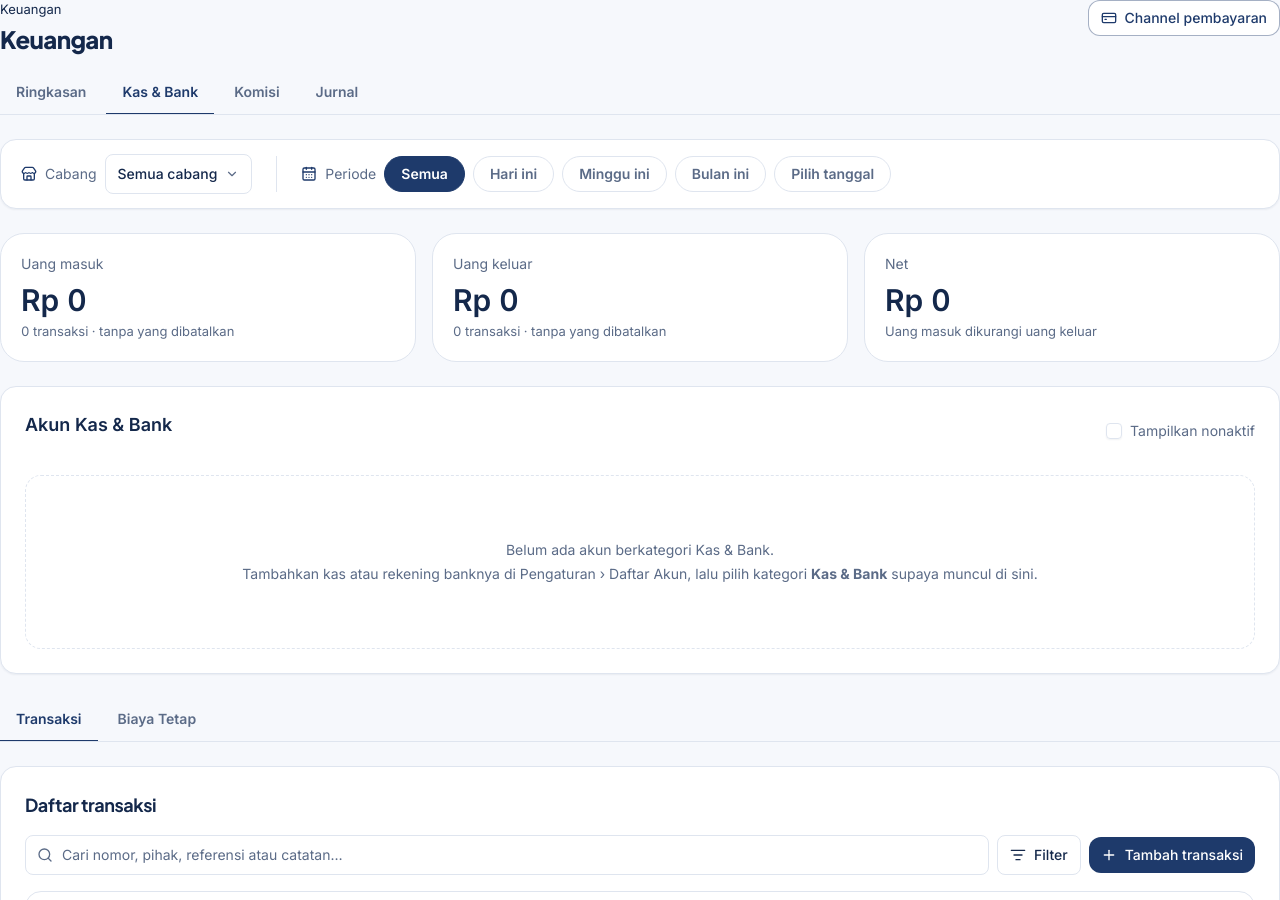
Test: Kas & Bank — transaksi: empty and gated › tells a filtered empty list apart from an empty book
Click the button "Filter" at [1039, 855], box x1=997 y1=835 x2=1081 y2=875
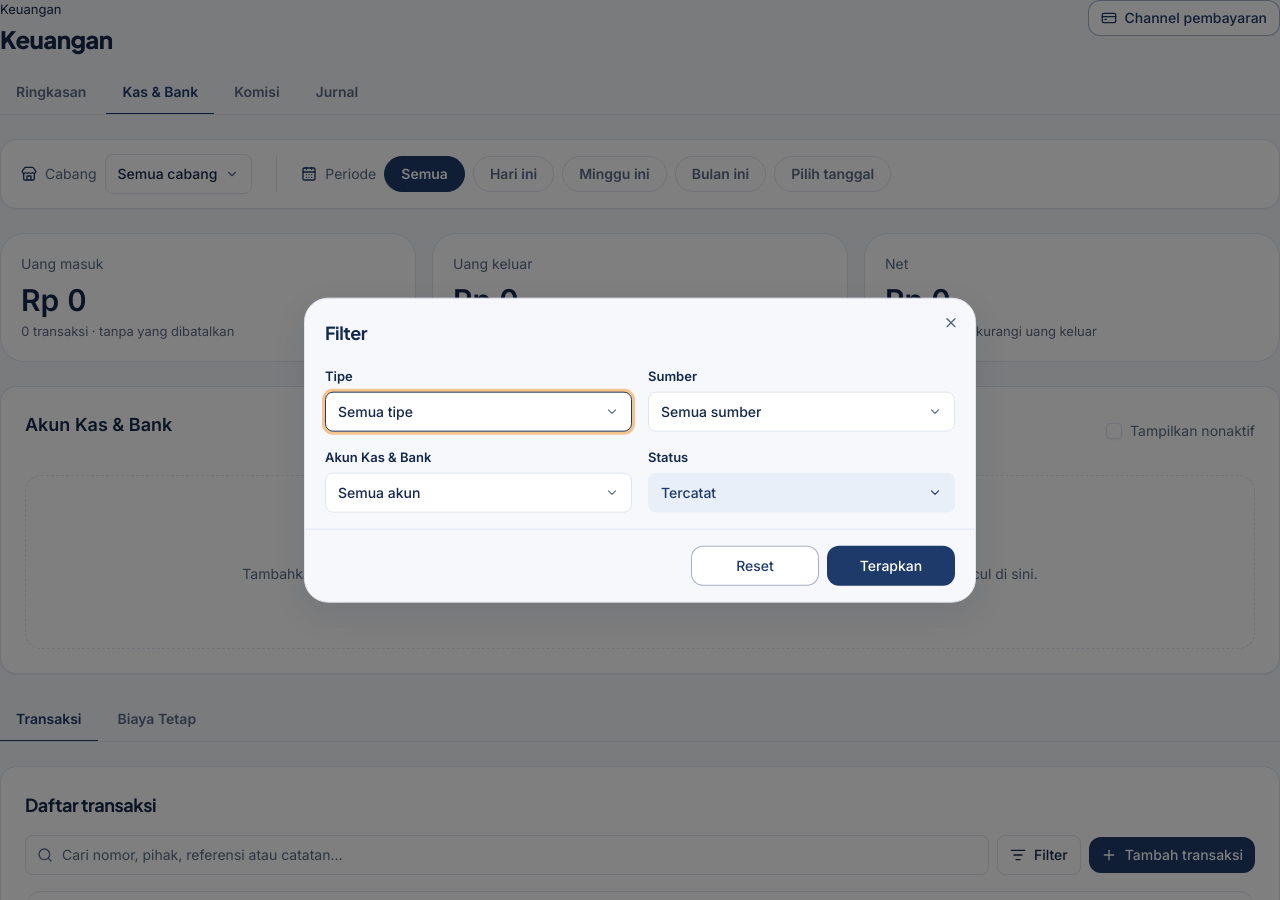
Click the button with aria-label "Filter tipe" at [375, 411], box x1=325 y1=392 x2=632 y2=432
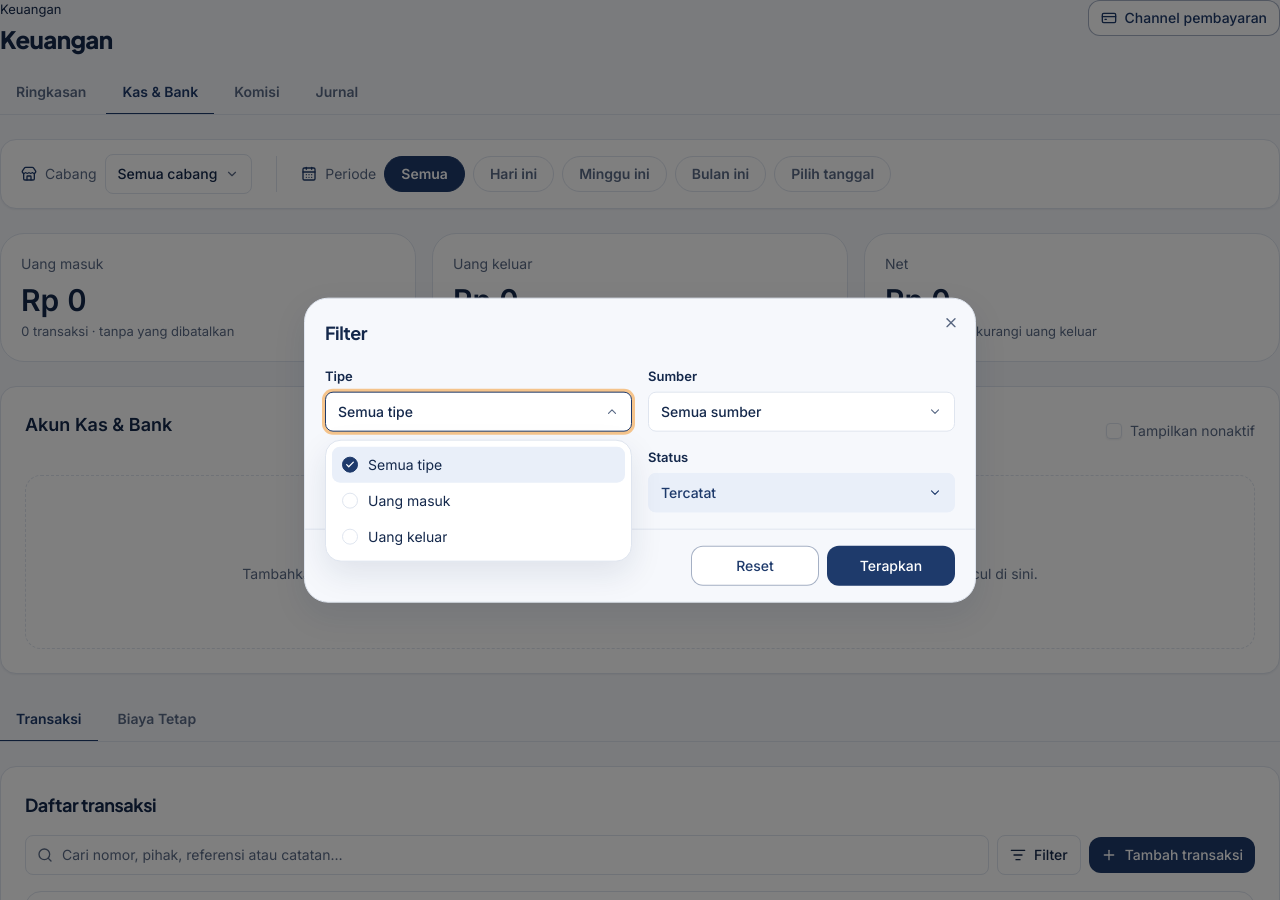
Click the option "Uang masuk" at [396, 500], box x1=342 y1=492 x2=451 y2=509
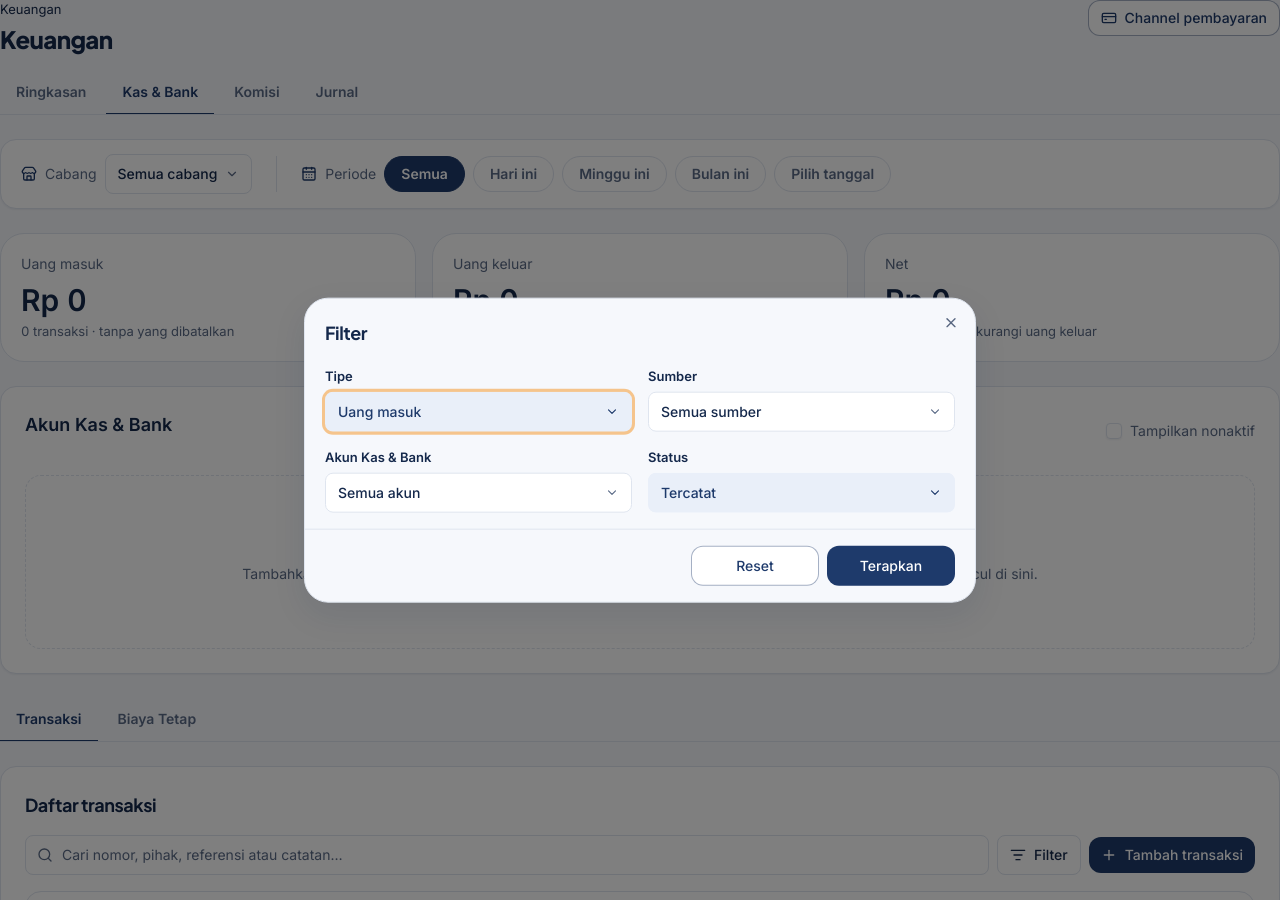
Click the button "Terapkan" at [891, 565], box x1=827 y1=545 x2=955 y2=585
(page scrolled)
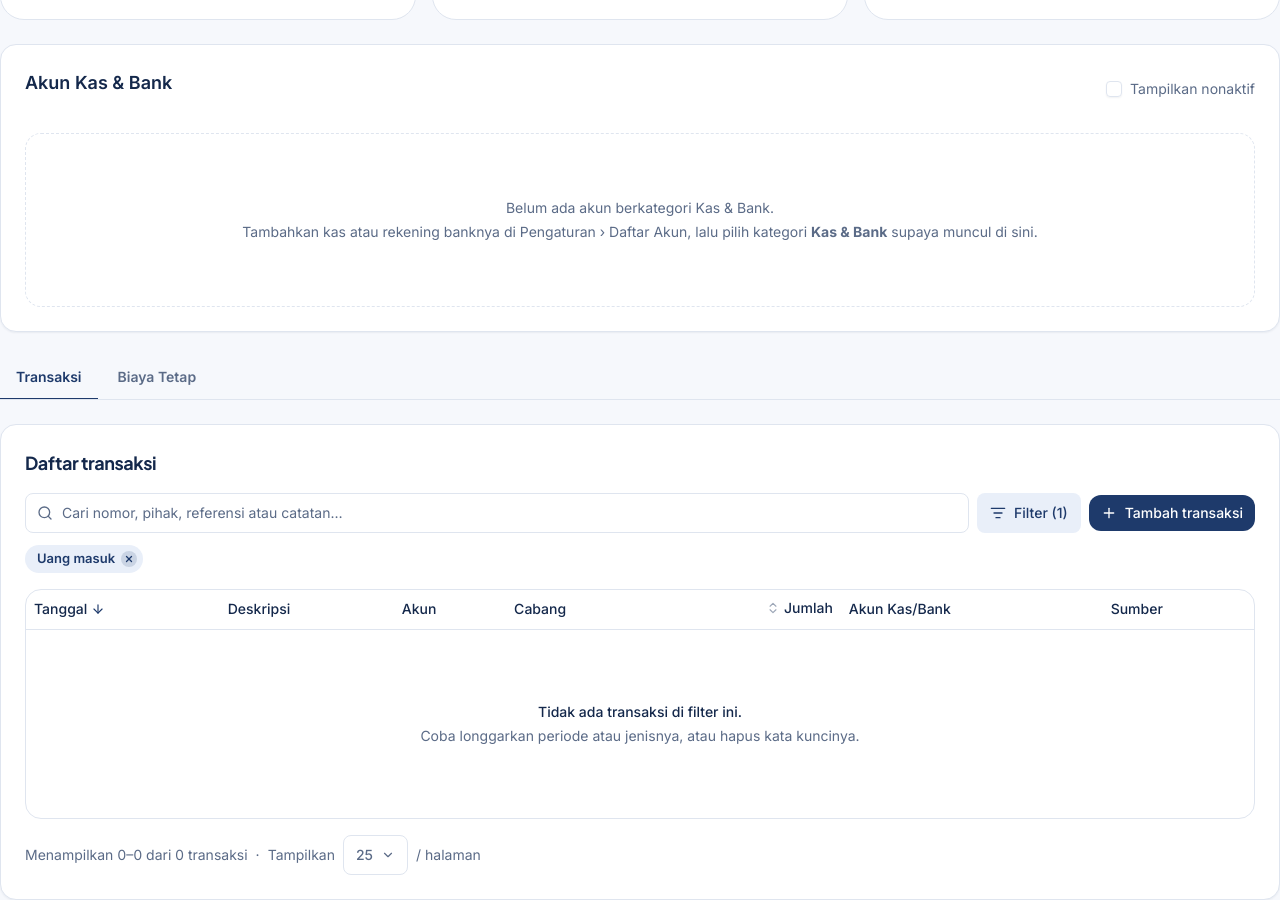
Expected: the text "Tidak ada transaksi di filter ini." is shown, x1=538 y1=703 x2=742 y2=720
